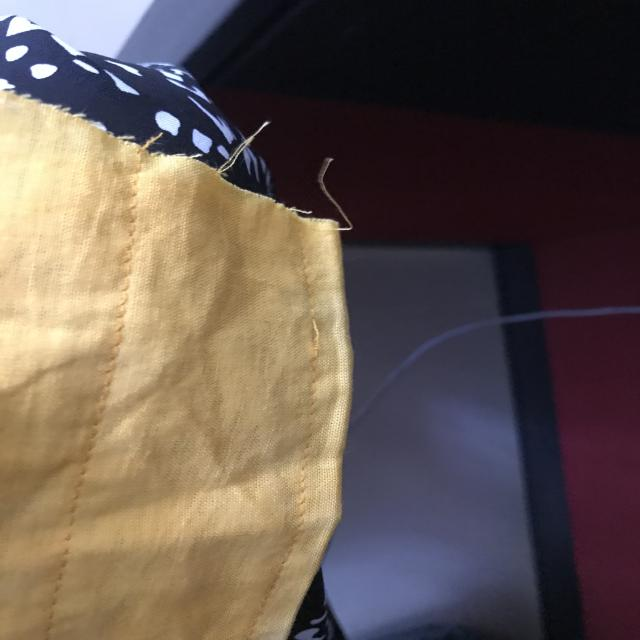skip: (302, 309, 328, 373)
